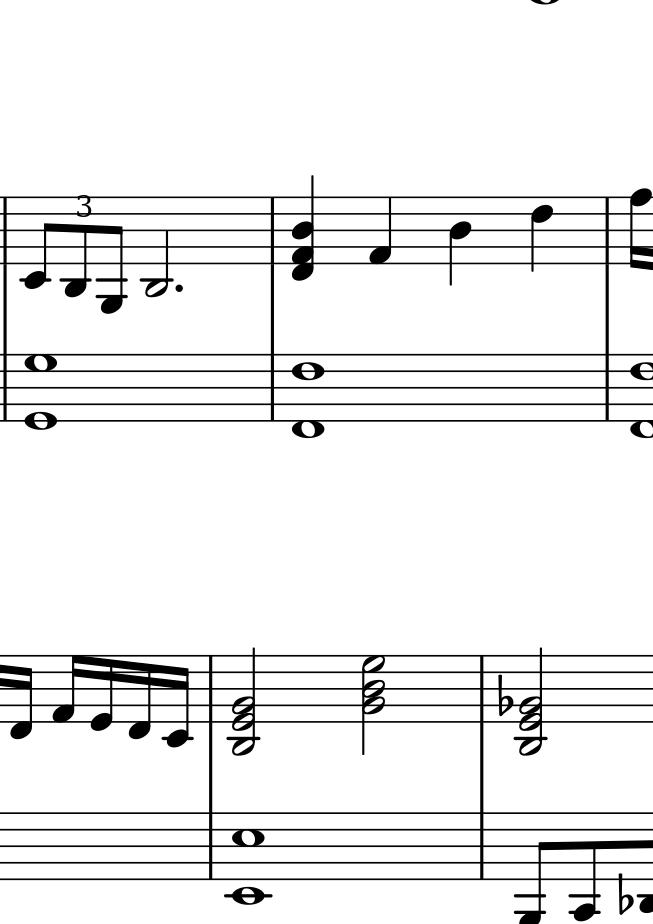16_-1: (123, 653, 154, 741), (8, 653, 34, 742)
16_-2: (165, 654, 192, 750)
16_0: (88, 652, 117, 733)
16_1: (50, 653, 82, 725)
16_8: (627, 185, 653, 271)
1_-1_6: (290, 353, 327, 438)
1_-2_5: (226, 810, 273, 907)
1_0_7: (24, 353, 57, 432)
2_-3: (141, 194, 170, 299)
2_th: (517, 646, 549, 757), (230, 650, 261, 754), (359, 653, 386, 757)
4_1: (368, 195, 394, 268)
4_4: (447, 195, 473, 288)
4_6: (530, 194, 556, 276)
4_th: (288, 173, 320, 285)
8_-2: (19, 194, 55, 292)
8_-3: (62, 195, 90, 299)
8_-4: (568, 808, 601, 923)
8_-5: (97, 195, 126, 315)
Flat: (495, 669, 514, 717), (616, 869, 634, 917)
Single_barline: (262, 353, 283, 423), (598, 353, 617, 422), (473, 655, 491, 723), (201, 656, 219, 724), (202, 813, 220, 880), (599, 197, 616, 264), (265, 199, 281, 263), (474, 812, 489, 878), (1, 354, 15, 424), (1, 197, 13, 266)
dot: (172, 281, 186, 296)
